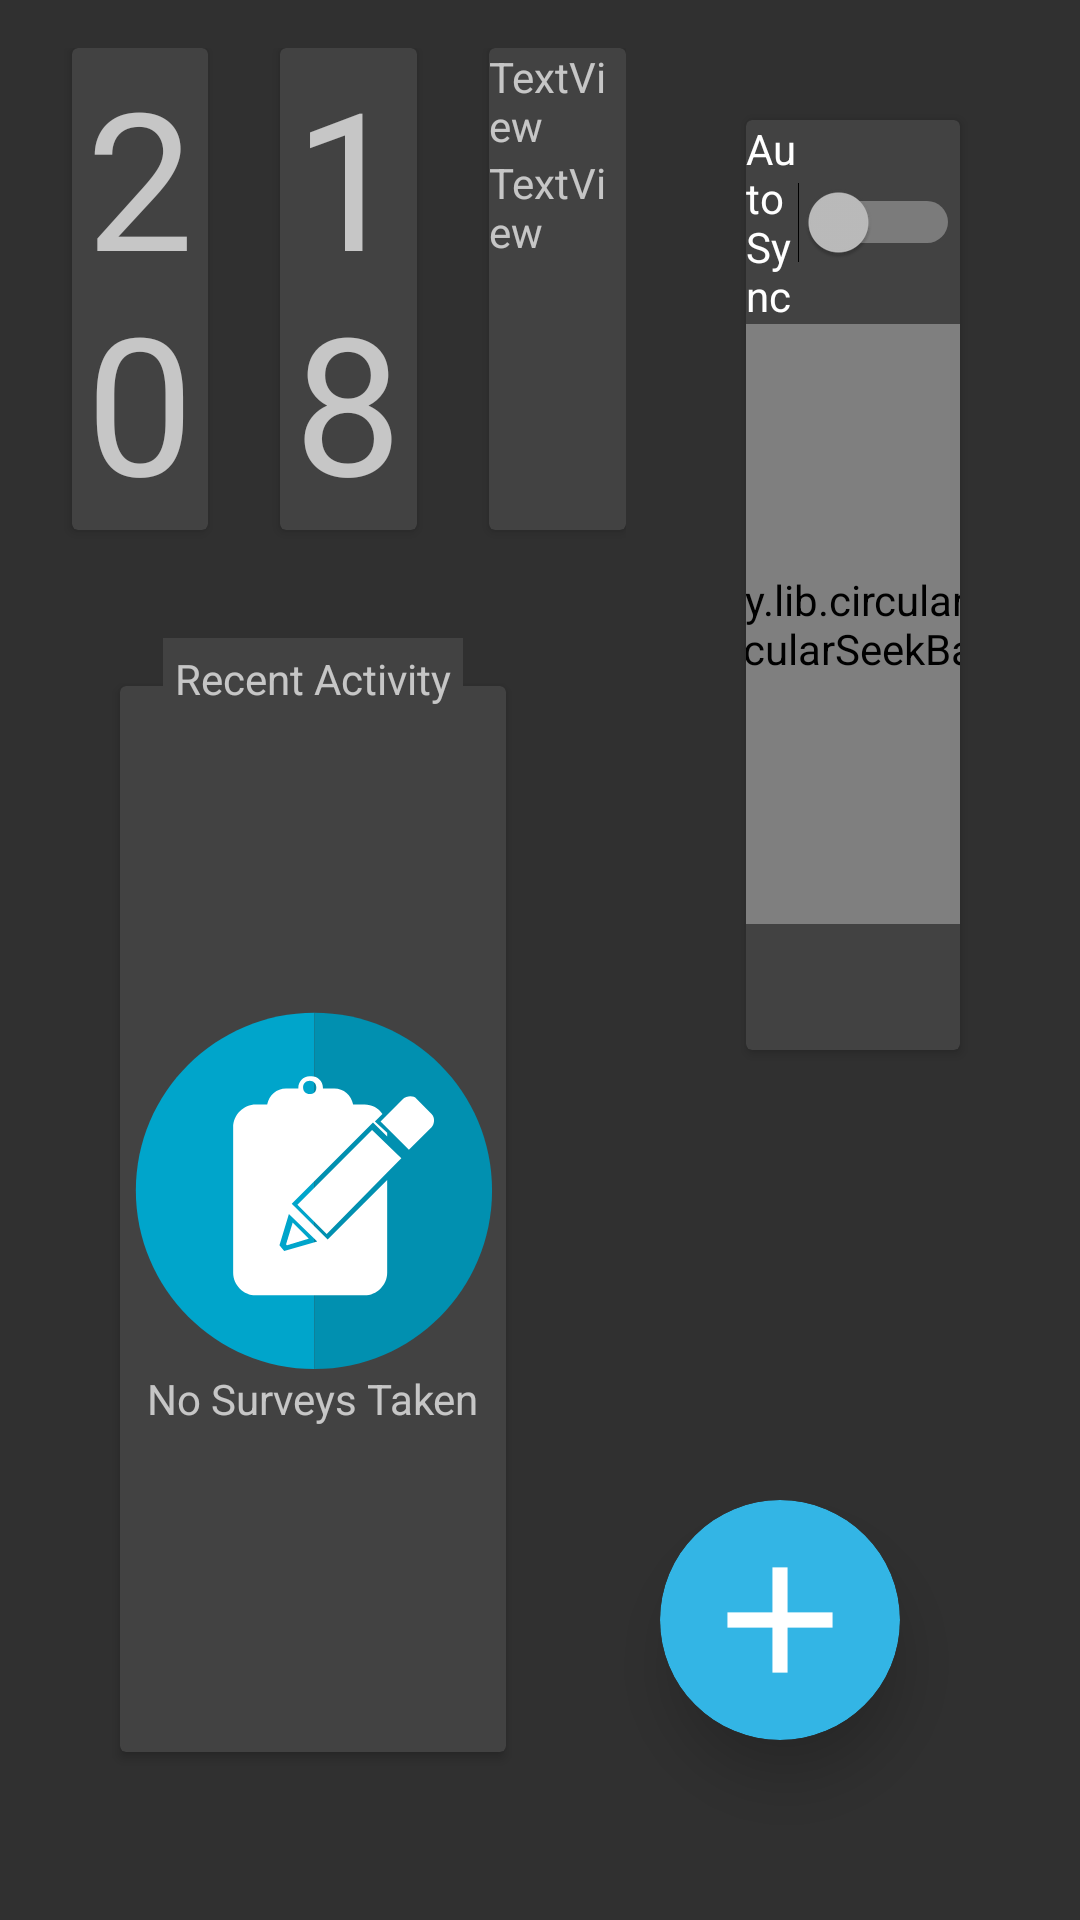

Icons on this 1080x1920 Android screen, each with its box as bbox=(x1, y1, x2, y2):
add: bbox=(727, 1567, 833, 1673)
